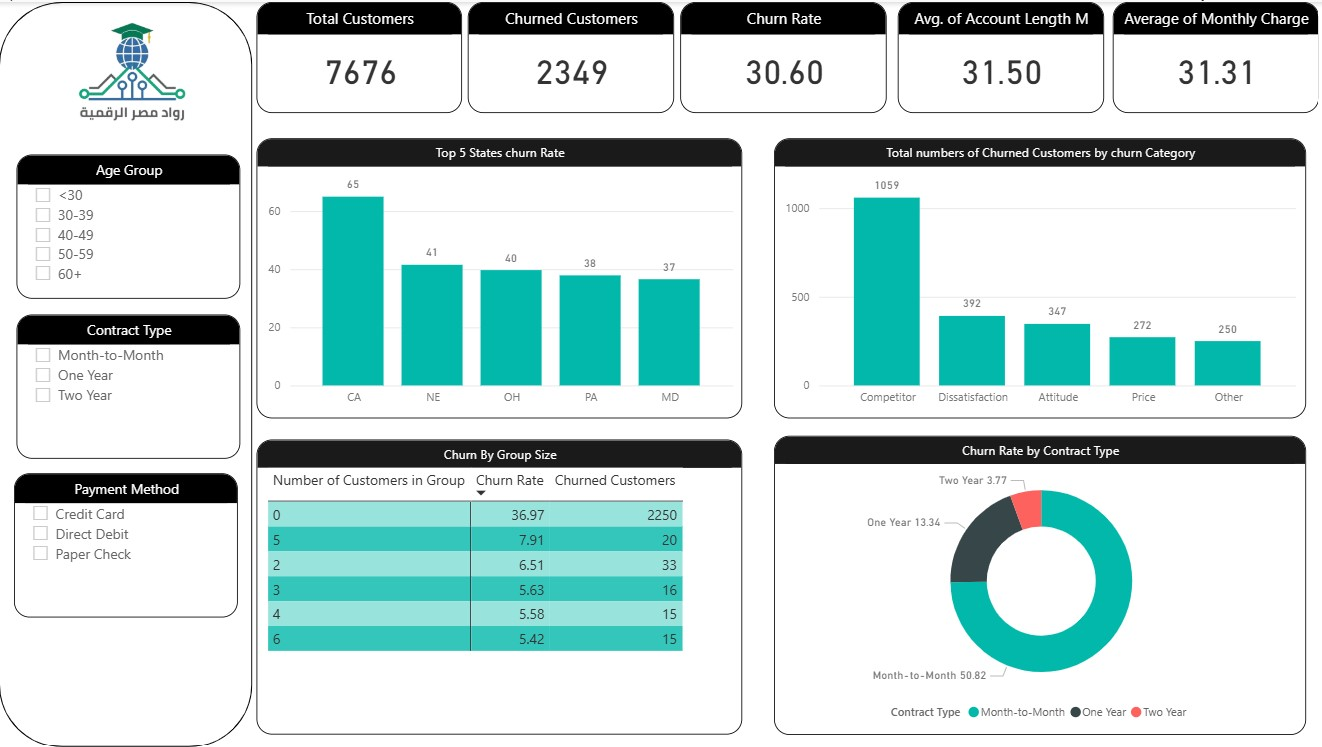

The page's visual inventory and layout, read from the dashboard file:
{"tool":"powerbi","page":{"name":"Page 1","canvas":[1280,720],"ordinal":1},"visuals":[{"type":"card","title":"Total Customers","fields":{"Values":["Table of measures.Total Customers"]},"box":[248.1,0,198.8,107.4],"z":0},{"type":"card","title":"Churned Customers","fields":{"Values":["Table of measures.Churned Customers"]},"box":[452.3,0,198.9,107.6],"z":1000},{"type":"card","title":"Churn Rate","fields":{"Values":["Table of measures.Churn Rate"]},"box":[657.9,0,198.9,107.6],"z":2000},{"type":"card","title":"Avg. of Account Length M","fields":{"Values":["Avg(SkyLink - Dataset.Account Length (in months))"]},"box":[867.8,0,198.9,107.6],"z":3000},{"type":"card","title":"Average of Monthly Charge","fields":{"Values":["Avg(SkyLink - Dataset.Monthly Charge)"]},"box":[1075.5,0,198.9,107.6],"z":4000},{"type":"shape","box":[0,0,244.4,719.8],"z":5000},{"type":"clusteredColumnChart","title":"Top 5 States churn Rate","fields":{"Y":["Table of measures.Churn Rate"],"Category":["SkyLink - Dataset.State"]},"box":[248.1,132.1,469.1,270.4],"z":6000},{"type":"pivotTable","title":"Churn By Group Size","fields":{"Rows":["SkyLink - Dataset.Number of Customers in Group"],"Values":["Table of measures.Churn Rate","Table of measures.Churned Customers"]},"box":[248.1,422.2,469.1,285.2],"z":7000},{"type":"clusteredColumnChart","title":"Total numbers of Churned Customers by churn Category","fields":{"Category":["SkyLink - Dataset.Churn Category"],"Y":["Table of measures.Churned Customers"]},"box":[748.2,132.1,513.6,270.4],"z":8000},{"type":"donutChart","title":"Churn Rate by Contract Type","fields":{"Category":["SkyLink - Dataset.Contract Type"],"Y":["Table of measures.Churn Rate"]},"box":[748.2,418.5,513.6,288.9],"z":9000},{"type":"image","box":[30.9,0,191.4,146.9],"z":10000},{"type":"slicer","title":"Age Group","fields":{"Values":["SkyLink - Dataset.Age Group"]},"box":[17.3,146.9,216.1,139.5],"z":11000},{"type":"slicer","title":"Contract Type","fields":{"Values":["SkyLink - Dataset.Contract Type"]},"box":[17.3,301.2,216.1,139.5],"z":12000},{"type":"slicer","title":"Payment Method","fields":{"Values":["SkyLink - Dataset.Payment Method"]},"box":[14.8,454.3,216.1,139.5],"z":13000}]}

Visuals, with their boxes in screenshot pixels (x1, y1, x2, y2), scaled from the page's 1280x720 canvas onto the 1322x747 screenshot:
"Total Customers" card: (256, 0, 462, 111)
"Churned Customers" card: (467, 0, 673, 112)
"Churn Rate" card: (679, 0, 885, 112)
"Avg. of Account Length M" card: (896, 0, 1102, 112)
"Average of Monthly Charge" card: (1111, 0, 1316, 112)
shape: (0, 0, 252, 746)
"Top 5 States churn Rate" clusteredColumnChart: (256, 137, 741, 418)
"Churn By Group Size" pivotTable: (256, 438, 741, 734)
"Total numbers of Churned Customers by churn Category" clusteredColumnChart: (773, 137, 1303, 418)
"Churn Rate by Contract Type" donutChart: (773, 434, 1303, 734)
image: (32, 0, 230, 152)
"Age Group" slicer: (18, 152, 241, 297)
"Contract Type" slicer: (18, 312, 241, 457)
"Payment Method" slicer: (15, 471, 238, 616)
